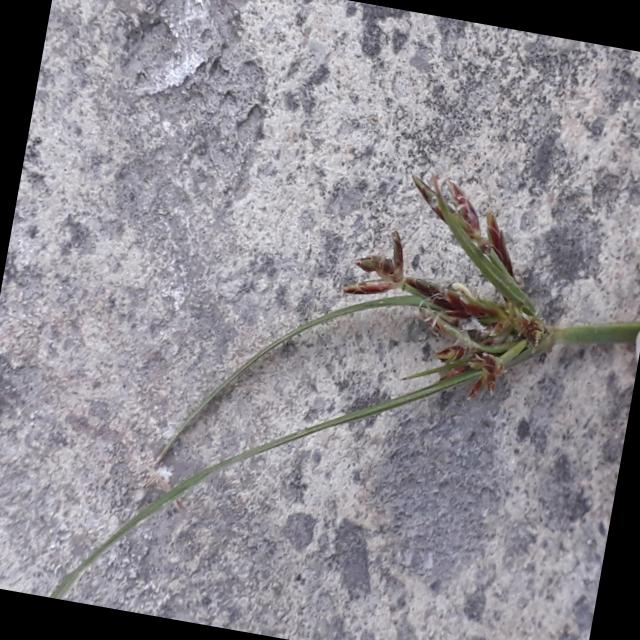cyperus: (314, 149, 572, 430)
